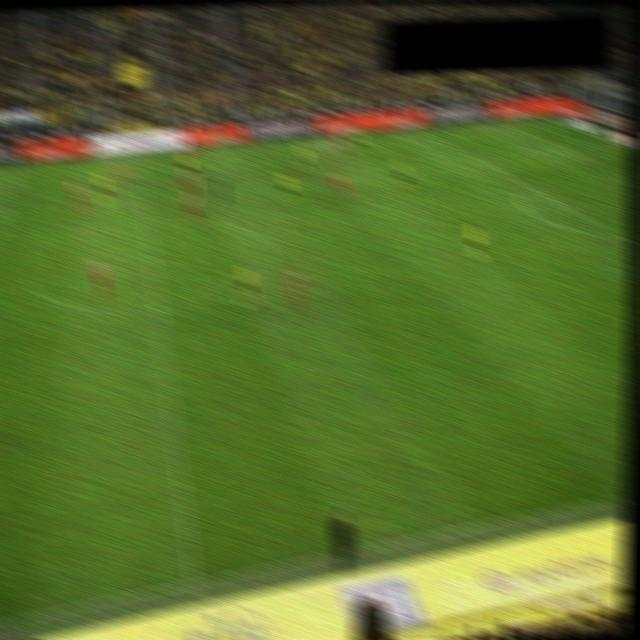bigarea_top_inner: (464, 147, 483, 161)
bigarea_top_outter: (599, 134, 618, 148)
bottom_arc_area_intersection: (608, 228, 631, 244)
corner: (537, 111, 556, 125)
halfcircle_bottom: (147, 299, 169, 315)
halfcircle_top: (136, 215, 156, 228)
midline_bottom_intersection: (182, 572, 205, 593)
midline_top_intersection: (128, 149, 147, 162)
smallarea_top_inner: (617, 163, 634, 177)
top_arc_area_intersection: (520, 179, 540, 194)
